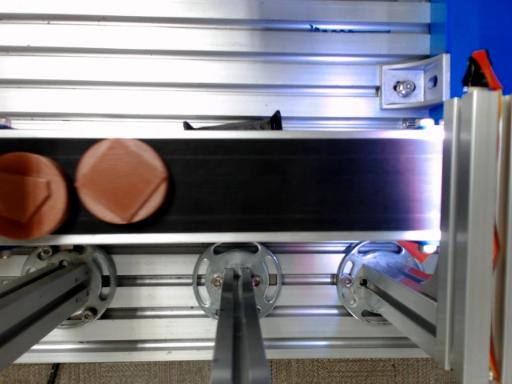Brown_Waper: (75, 138, 169, 224), (0, 152, 71, 239)
